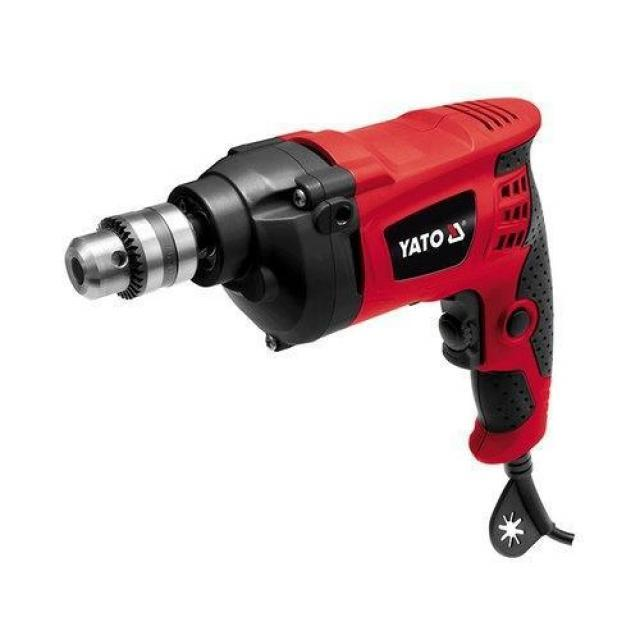drill: (63, 98, 577, 559)
